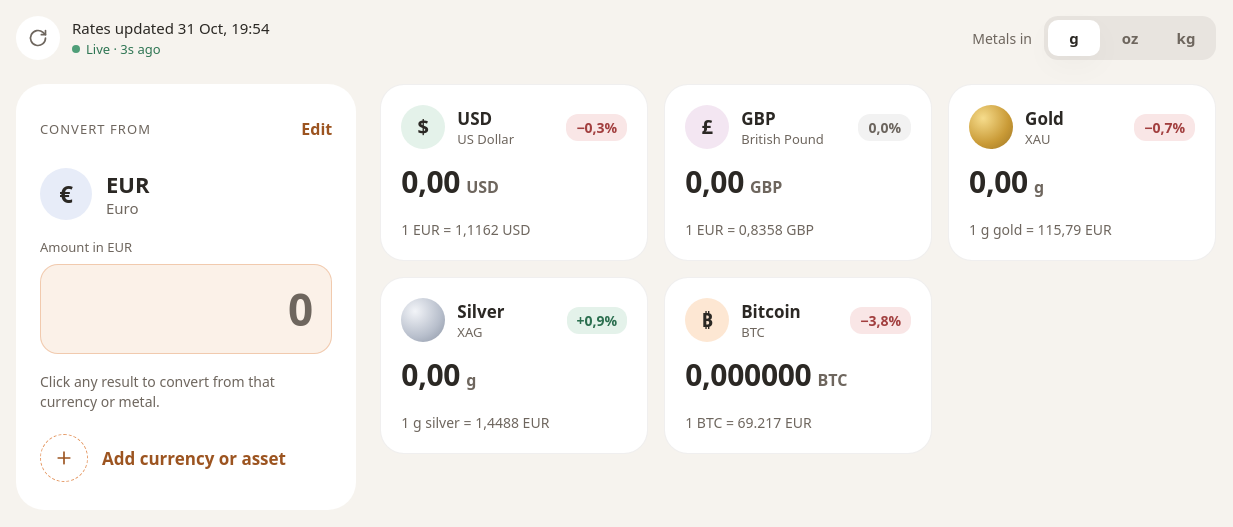
App amount input formatting (SPEC §12) › keeps a typed decimal comma, reads a final dot as decimal, drops extras
The image size is (1233, 527).
Step 1. Type "1234,5" into the field labelled "Amount in EUR" → point(186, 309), box [40, 264, 332, 354]
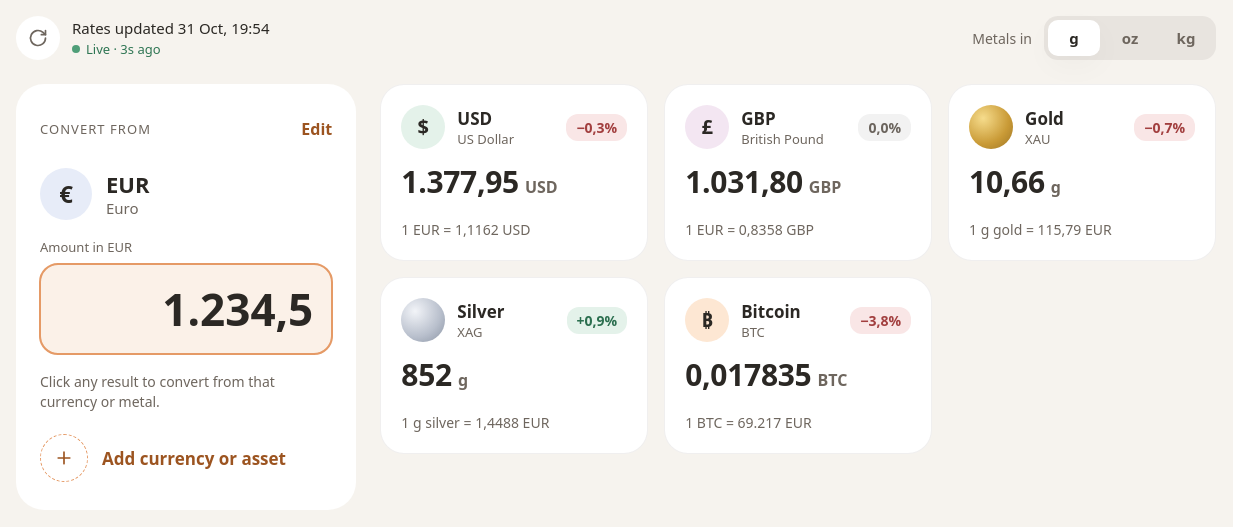
Expected: the field labelled "Amount in EUR" holds "1.234,5"
Step 2. Replace the text in the field labelled "Amount in EUR" with "12.5" → point(186, 309), box [40, 264, 332, 354]
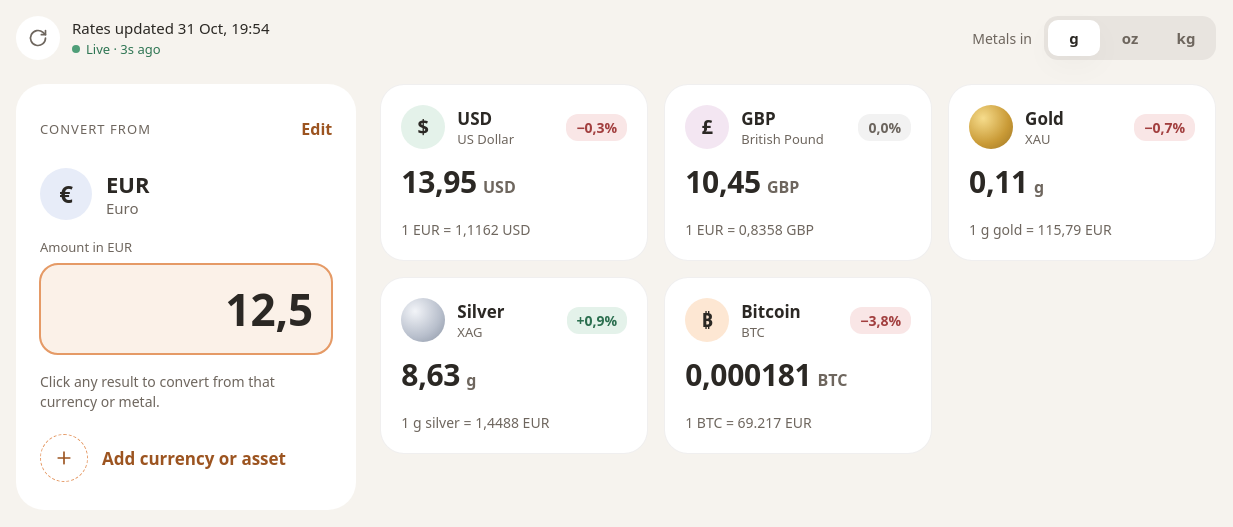
Expected: the field labelled "Amount in EUR" holds "12,5"
Step 3. Replace the text in the field labelled "Amount in EUR" with "1a2,345" → point(186, 309), box [40, 264, 332, 354]
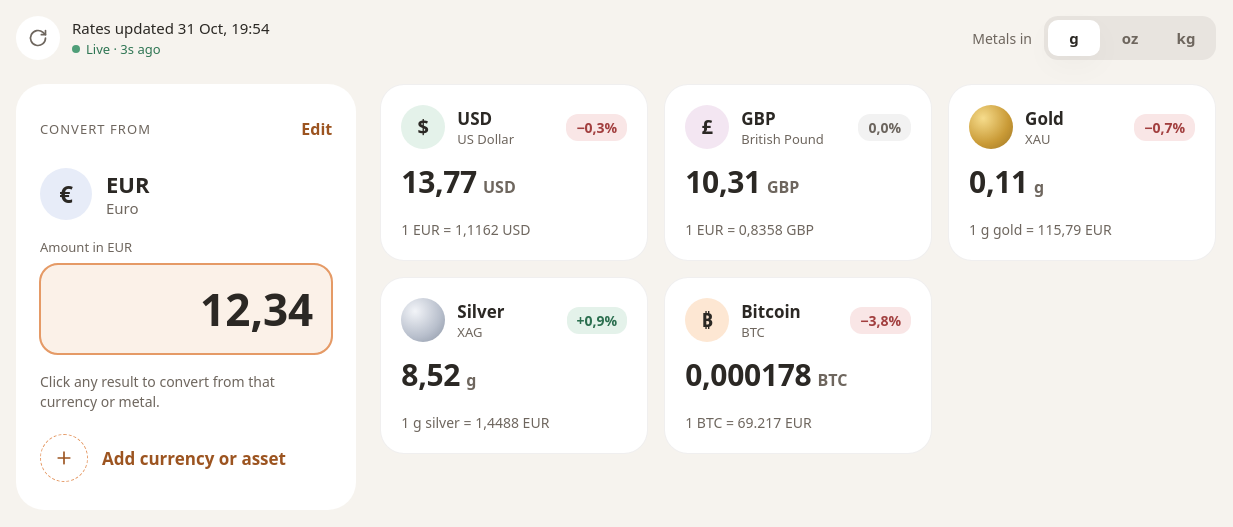
Expected: the field labelled "Amount in EUR" holds "12,34", [40, 264, 332, 354]
